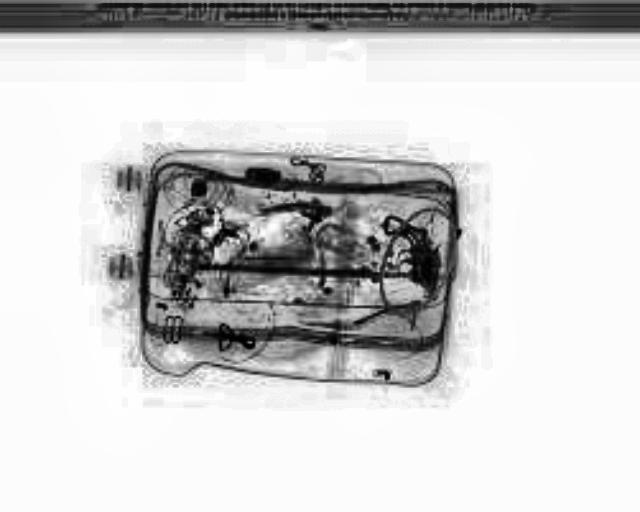Gun: (376, 212, 436, 296)
